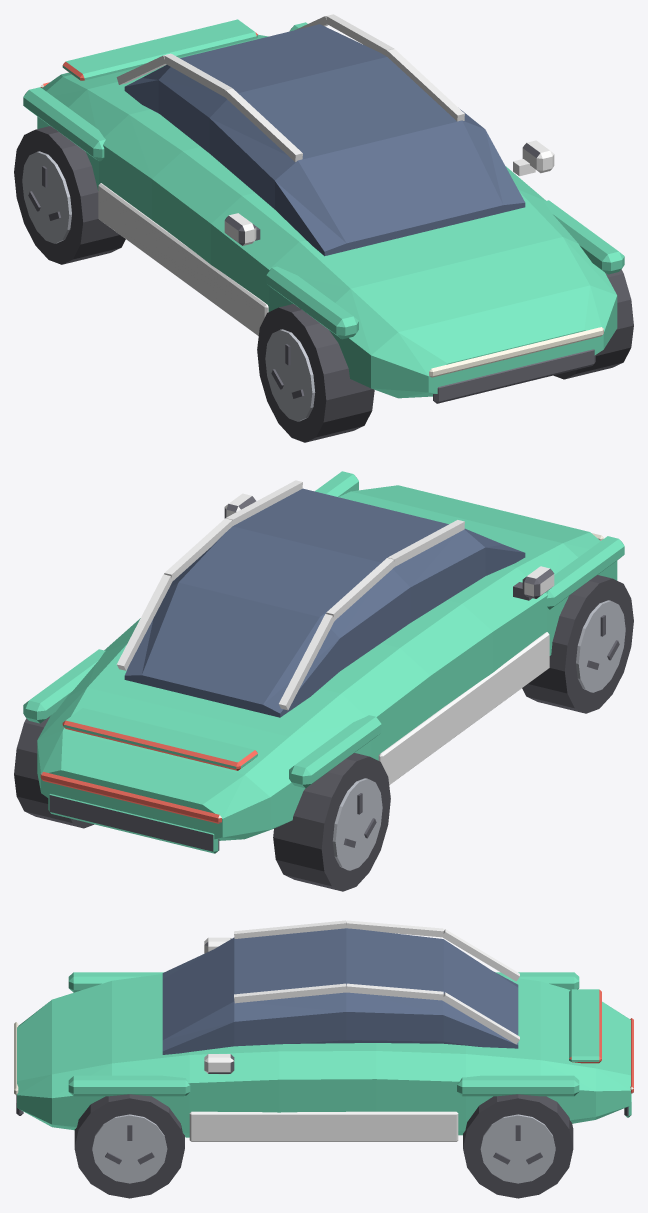
Rendered from Car_mint.fbx.
3 views of the same model, one above another, from view 1: azimuth 30°, elevation 25°; view 2: azimuth 150°, elevation 25°; view 3: azimuth 270°, elevation 25° (orthographic). The views are drawn at different scales.
Visible parts, largest first — view 1: Body, Wheel_FL, Wheel_RL, Wheel_FR; view 2: Body, Wheel_RL, Wheel_FL, Wheel_RR; view 3: Body, Wheel_RR, Wheel_FR.
Boxes of the visible parts, left/top/right/bottom form: Body: left=23, top=14, right=624, bottom=403; Wheel_FL: left=257, top=304, right=374, bottom=442; Wheel_RL: left=14, top=126, right=125, bottom=264; Wheel_FR: left=553, top=269, right=633, bottom=379; Body: left=23, top=471, right=624, bottom=853; Wheel_RL: left=273, top=753, right=390, bottom=891; Wheel_FL: left=522, top=575, right=633, bottom=713; Wheel_RR: left=14, top=717, right=94, bottom=828; Body: left=14, top=920, right=633, bottom=1141; Wheel_RR: left=463, top=1094, right=573, bottom=1198; Wheel_FR: left=74, top=1094, right=184, bottom=1198.
Size of what is drawn, in the model's own units: 1.96 by 1.37 by 4.15.
